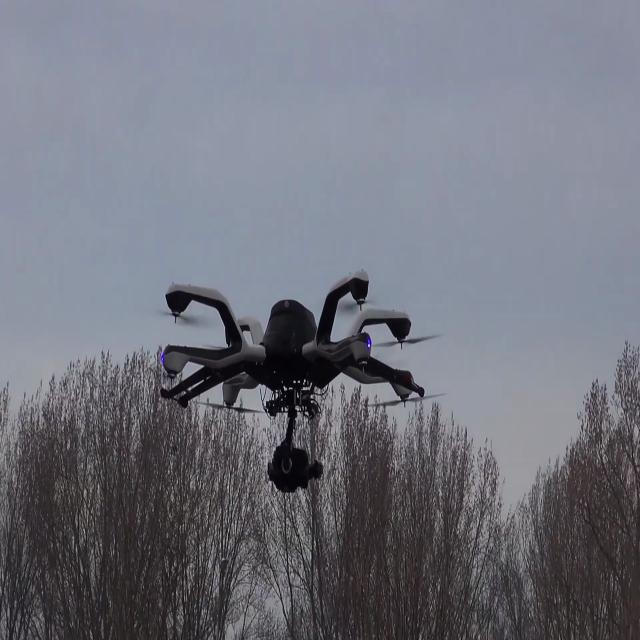drone: (156, 222, 430, 494)
